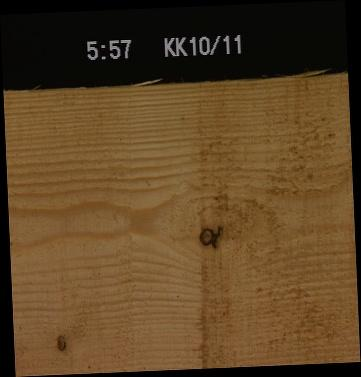dry_knot: (55, 332, 67, 351)
